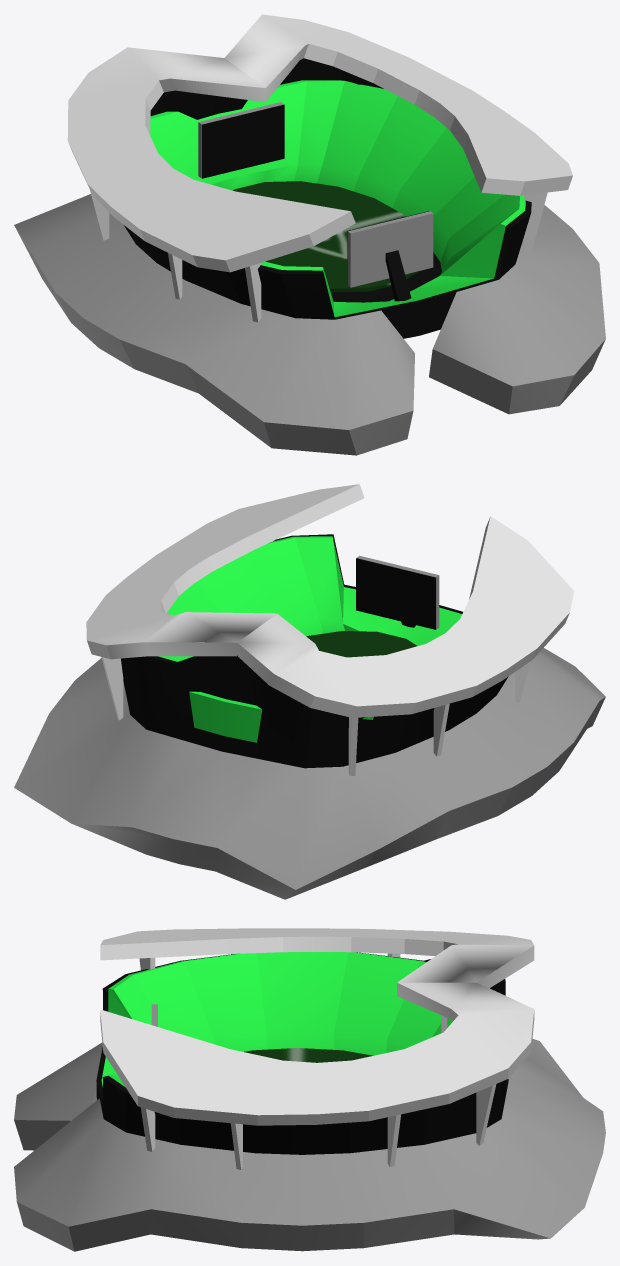
File: MM_StadiumLowPoly.FBX
3 renders of one model, top to bottom at view 1: azimuth 30°, elevation 25°; view 2: azimuth 150°, elevation 25°; view 3: azimuth 270°, elevation 25°, orthographic. The views are drawn at different scales.
Visible parts, largest first — view 1: Object002, Line002, Object001, Line001, Cylinder001, Plane005, tv01, Line003, Box001; view 2: Object002, Line002, Line001, Object001, tv02, Line003, Cylinder001; view 3: Object002, Line002, Object001, Line001, Line003, Cylinder001.
Part boxes in pixels (x1,y1,x2,y2): Object002: (14,194,605,455); Line002: (67,14,572,272); Object001: (150,80,525,317); Line001: (124,58,531,338); Cylinder001: (233,181,418,292); Plane005: (347,211,433,287); tv01: (202,104,284,178); Line003: (89,189,547,322); Box001: (385,250,411,301); Object002: (14,648,605,899); Line002: (86,484,573,717); Line001: (121,534,508,768); Object001: (158,536,462,742); tv02: (356,558,435,629); Line003: (101,541,533,775); Cylinder001: (306,631,417,657); Object002: (14,1038,605,1251); Line002: (100,928,534,1125); Object001: (101,952,452,1086); Line001: (96,952,508,1154); Line003: (139,953,496,1169); Cylinder001: (244,1048,372,1062).
Size of the model in its own units: 73.58 by 32.23 by 84.2.
